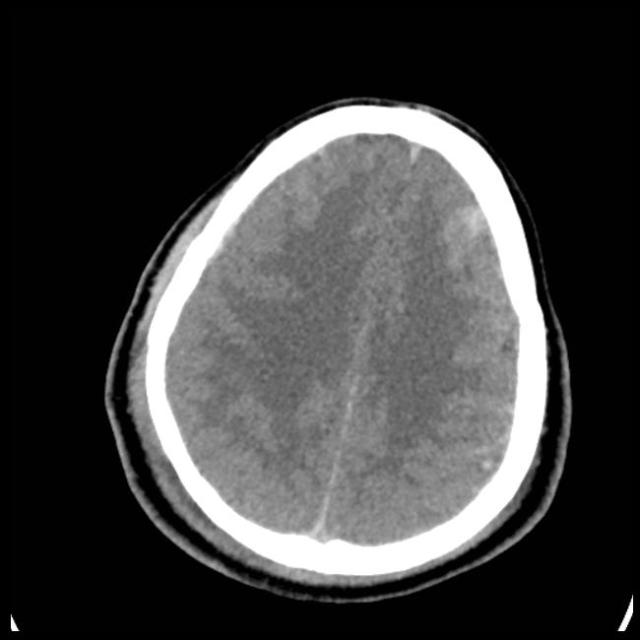lesion: (103, 95, 574, 602)
